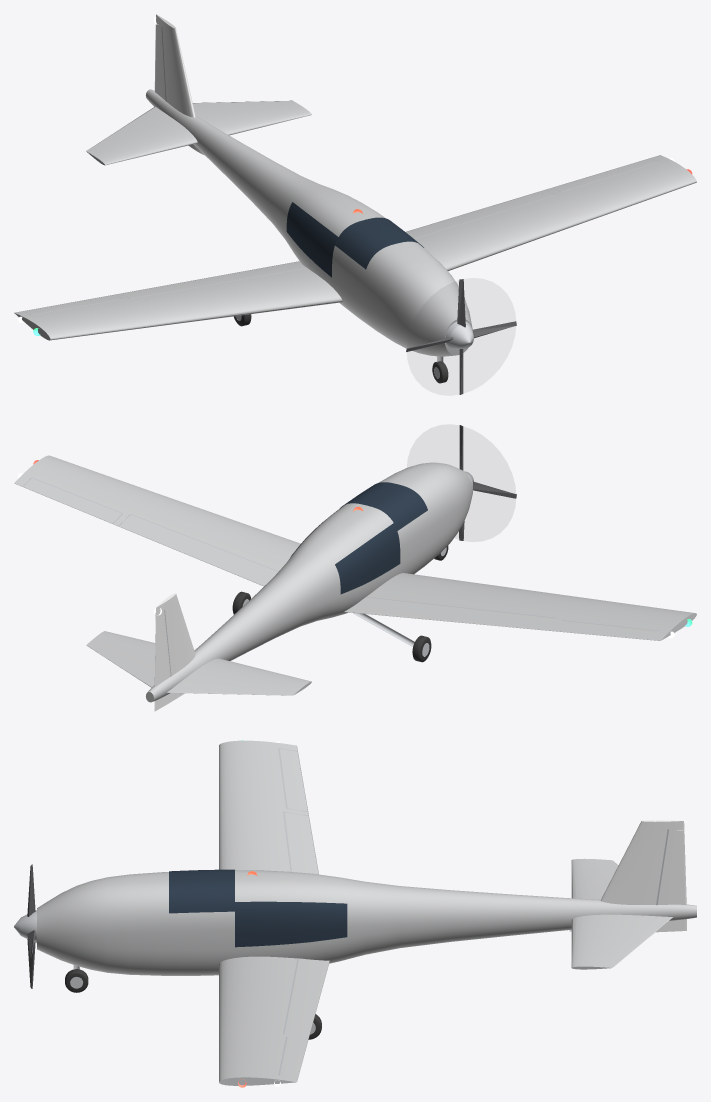
File: TBM7.glb
The picture shows the model from 3 angles, top to bottom: view 1: azimuth 30°, elevation 25°; view 2: azimuth 150°, elevation 25°; view 3: azimuth 270°, elevation 25°; orthographic projection. The views are drawn at different scales.
Visible parts, largest first — view 1: airframe, prop; view 2: airframe, gear, prop; view 3: airframe, gear, prop.
Part boxes in pixels (x1=…): airframe: x1=14, y1=14, x2=696, y2=356; prop: x1=406, y1=279, x2=516, y2=394; airframe: x1=14, y1=455, x2=696, y2=711; gear: x1=232, y1=545, x2=448, y2=662; prop: x1=459, y1=425, x2=516, y2=540; airframe: x1=14, y1=740, x2=696, y2=1087; gear: x1=65, y1=965, x2=321, y2=1039; prop: x1=27, y1=864, x2=35, y2=988.
Size of the model in its own units: 13.02 by 3.03 by 10.97.
